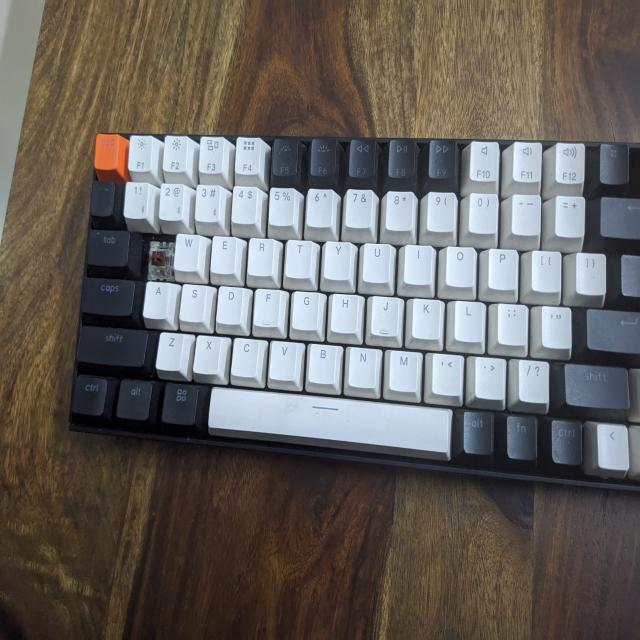C: (144, 237, 172, 278)
